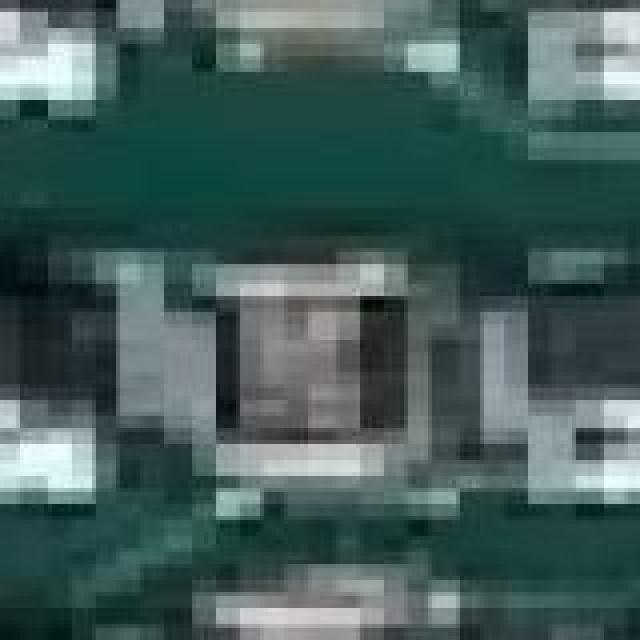resistor: (172, 252, 406, 490), (208, 592, 392, 640), (204, 0, 440, 32)
transistor: (500, 208, 640, 504), (0, 208, 92, 504), (512, 0, 640, 112), (0, 0, 84, 100), (556, 592, 640, 640), (0, 620, 108, 640)
